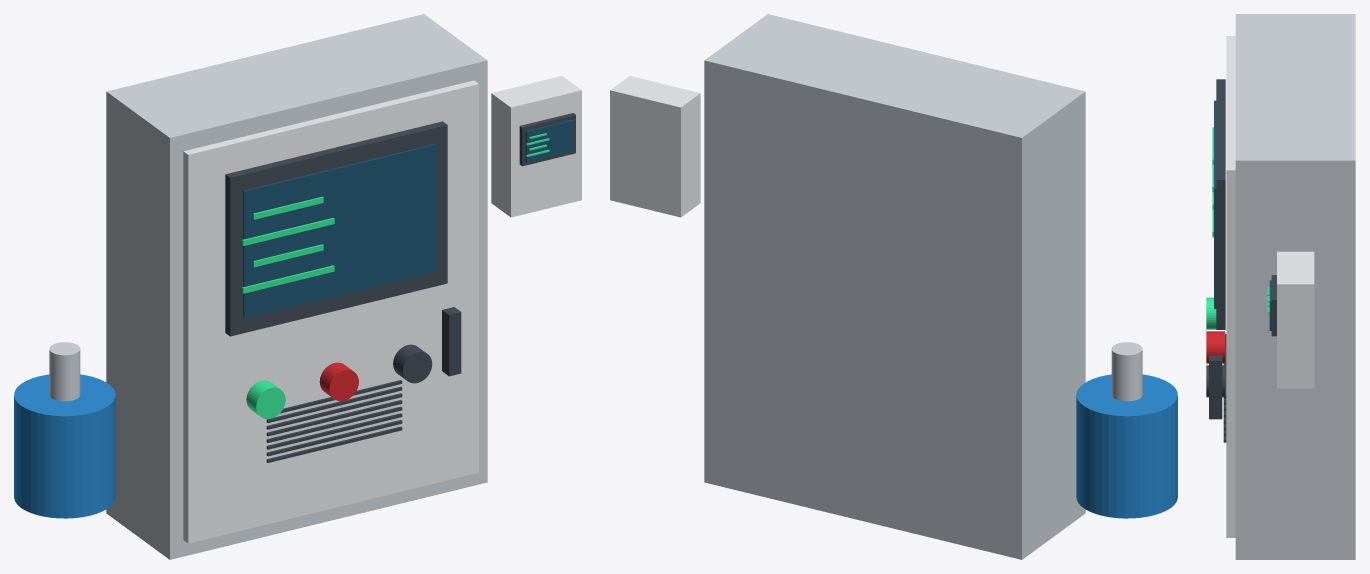
Rendered from model-bms.glb.
3 renders of one model, left to right at view 1: azimuth 30°, elevation 25°; view 2: azimuth 150°, elevation 25°; view 3: azimuth 270°, elevation 25°, orthographic. The views are drawn at different scales.
Parts seen in each view (by area): view 1: Cabinet door, BMS control cabinet, LCD glass (×2), Field actuator, Display bezel (×2), Temperature sensor, Control selector (×3), Actuator spindle, Door latch; view 2: BMS control cabinet, Field actuator, Temperature sensor, Actuator spindle; view 3: BMS control cabinet, Temperature sensor, Cabinet door, Display bezel (×2), Door latch, Control selector (×2), LCD glass.
Part boxes in pixels (x1,y1,x2,y2): Cabinet door: (183, 80, 478, 543); BMS control cabinet: (106, 14, 487, 559); LCD glass (×2): (243, 119, 573, 318); Field actuator: (14, 374, 115, 518); Display bezel (×2): (225, 113, 575, 336); Temperature sensor: (491, 76, 581, 217); Control selector (×3): (246, 344, 432, 418); Actuator spindle: (49, 342, 80, 401); Door latch: (442, 307, 461, 376); BMS control cabinet: (704, 14, 1085, 559); Field actuator: (1076, 374, 1177, 518); Temperature sensor: (610, 76, 700, 217); Actuator spindle: (1111, 342, 1142, 401); BMS control cabinet: (1235, 14, 1355, 559); Temperature sensor: (1277, 251, 1314, 388); Cabinet door: (1226, 36, 1235, 537); Display bezel (×2): (1216, 79, 1276, 336); Door latch: (1209, 355, 1222, 419); Control selector (×2): (1206, 297, 1224, 363); LCD glass: (1214, 100, 1216, 308).
Size of the model in its own units: 2.25 by 1.65 by 0.56.
